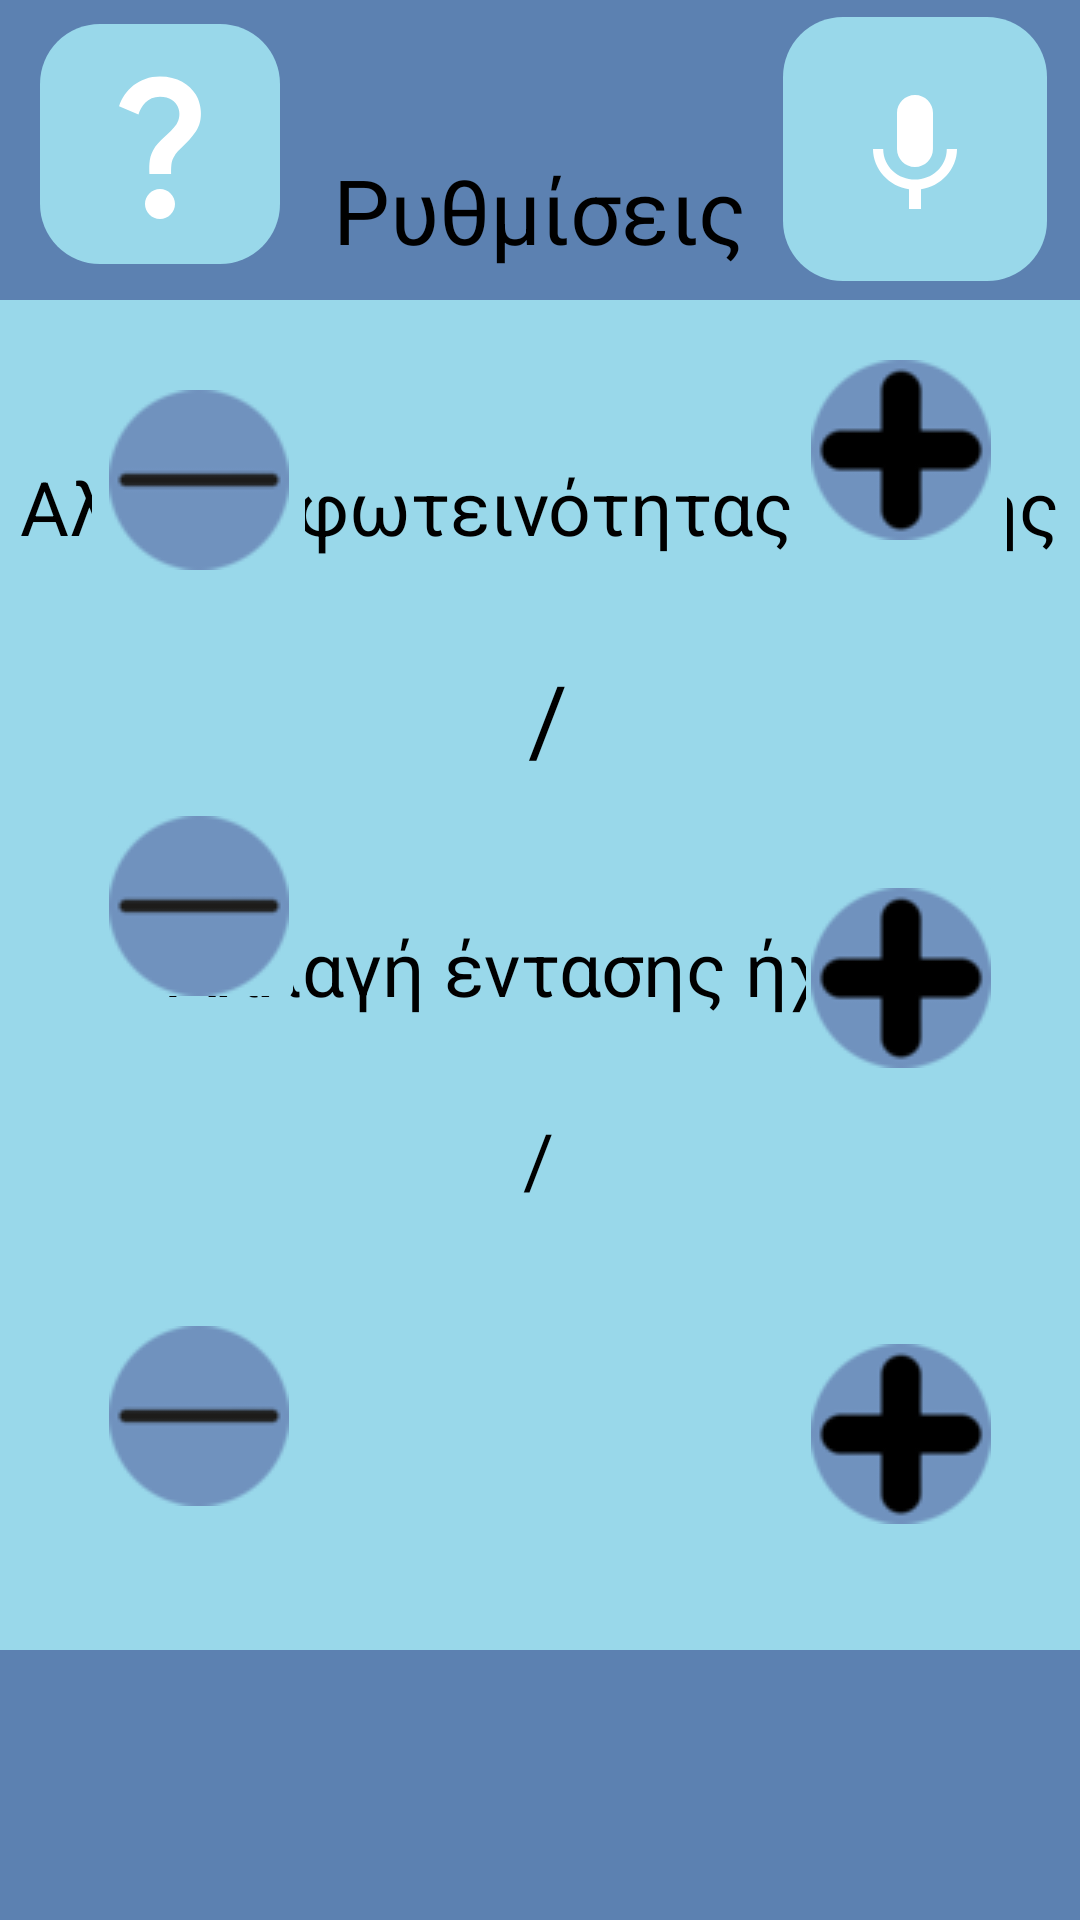

Locate icon controls on the screen. Image size 1080 × 1920, boxes as [x1=x1, y1=y1, x2=x2, y2=y2].
keyboard voice bigger: [x1=783, y1=17, x2=1047, y2=281]
minus: [x1=109, y1=390, x2=289, y2=570], [x1=109, y1=816, x2=300, y2=998], [x1=109, y1=1326, x2=289, y2=1506]
plus: [x1=811, y1=360, x2=991, y2=540], [x1=794, y1=888, x2=991, y2=1068], [x1=811, y1=1344, x2=991, y2=1524]
question mark: [x1=40, y1=24, x2=280, y2=264]
